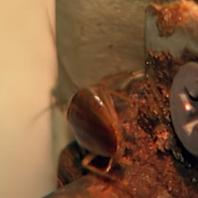cockroach: (58, 84, 136, 174)
